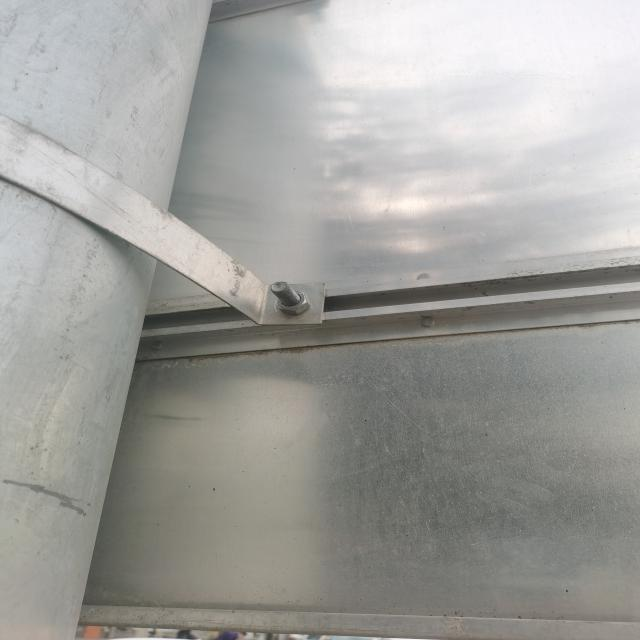bolt nut: (276, 289, 311, 317)
